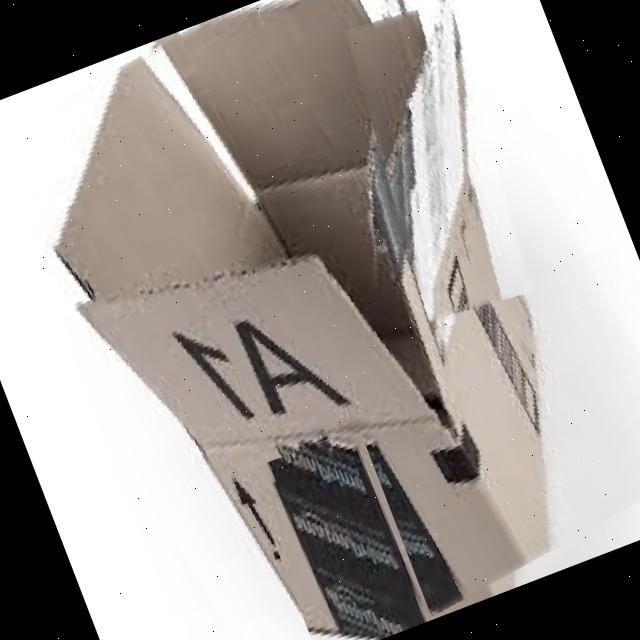box: (54, 1, 556, 639)
opened: (55, 1, 474, 447)
